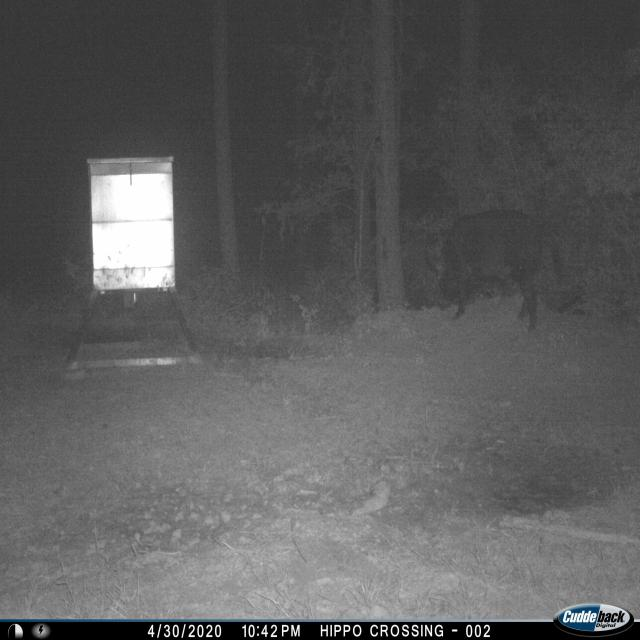wild boar: (428, 205, 565, 338)
